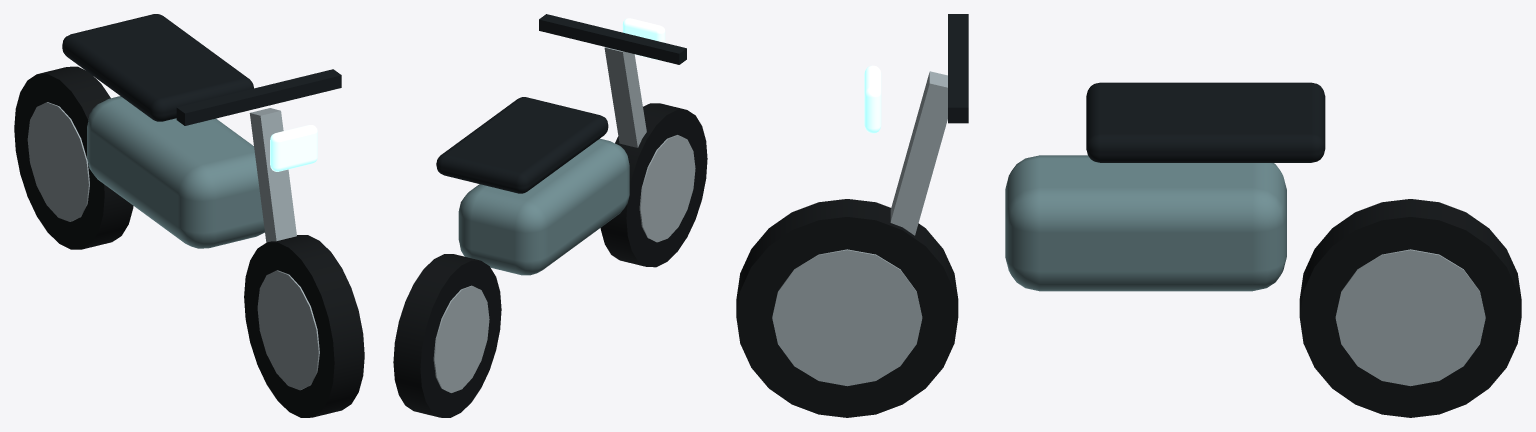
File: bike.glb
3 views of the same model, side by side, from view 1: azimuth 30°, elevation 25°; view 2: azimuth 150°, elevation 25°; view 3: azimuth 270°, elevation 25° (orthographic). The views are drawn at different scales.
Parts seen in each view (by area): view 1: Barak_bike; view 2: Barak_bike; view 3: Barak_bike.
Boxes of the visible parts, x1,y1,x2,y2 form: Barak_bike: (14,14,364,417); Barak_bike: (393,14,707,417); Barak_bike: (736,14,1521,417).
Size of the model in its own units: 1.3 by 2.25 by 4.6.
